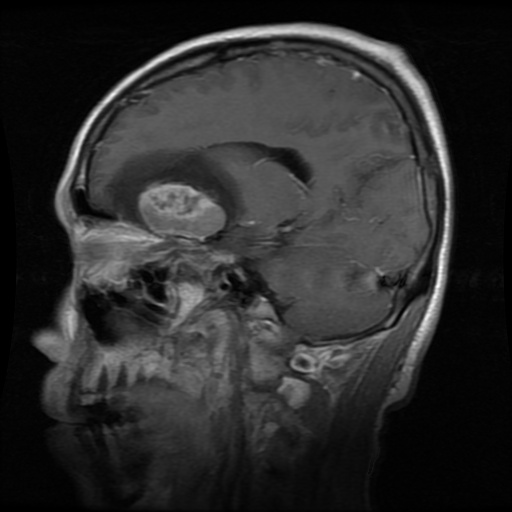meningioma: (136, 180, 227, 240)
